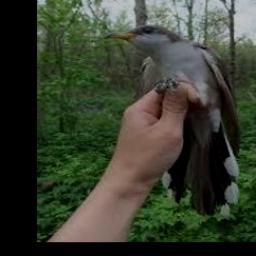Cuckoo: (106, 24, 240, 215)
